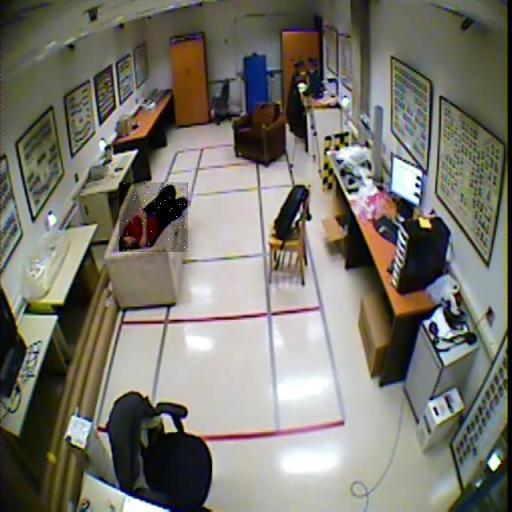Fall: (120, 182, 190, 252)
